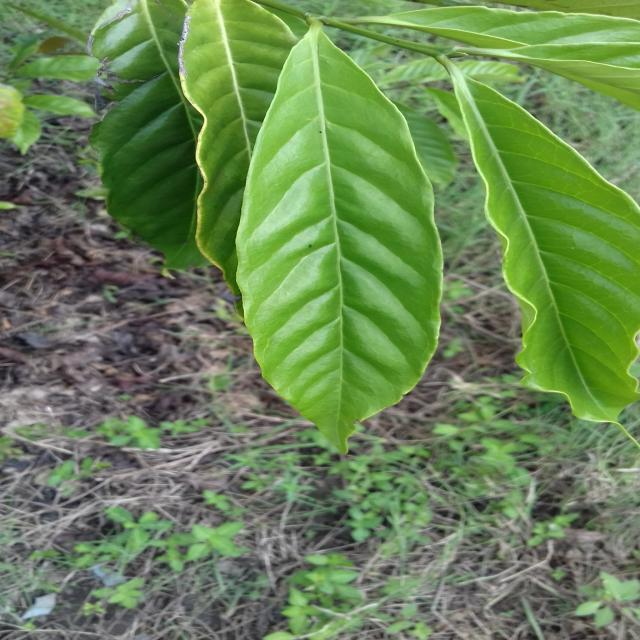Sanas: (236, 25, 445, 455)
